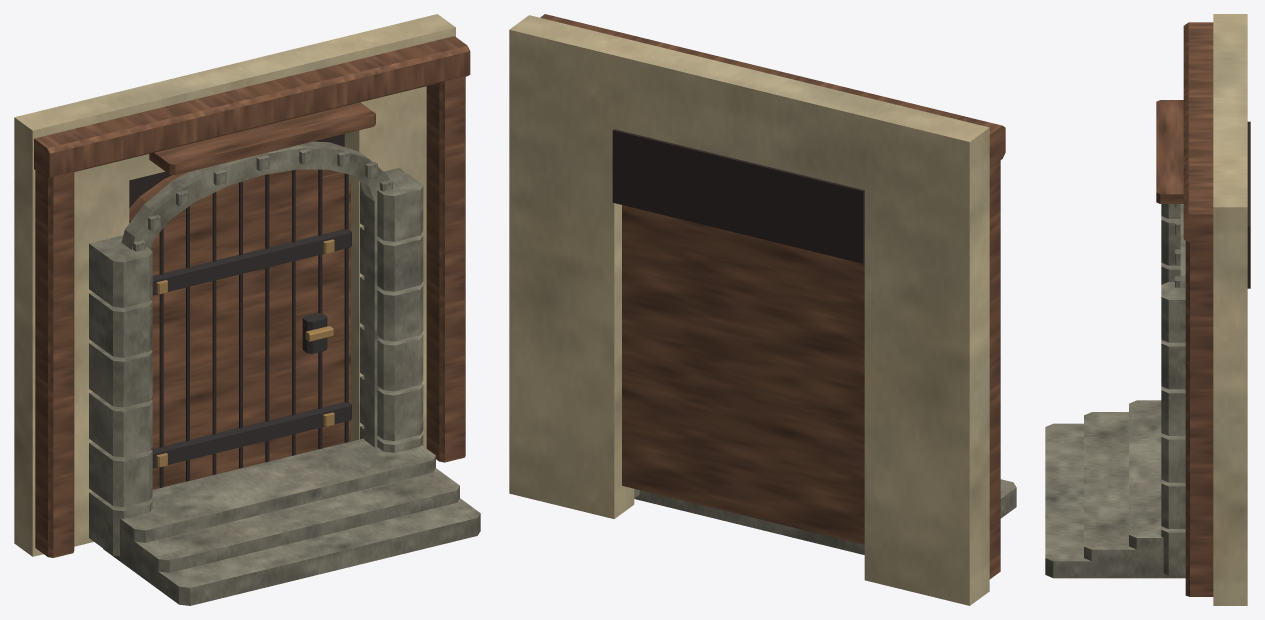
Rendered from wall_entry.glb.
The picture shows the model from 3 angles, left to right: view 1: azimuth 30°, elevation 25°; view 2: azimuth 150°, elevation 25°; view 3: azimuth 270°, elevation 25°; orthographic projection. The views are drawn at different scales.
Parts seen in each view (by area): view 1: Wall Entry; view 2: Wall Entry; view 3: Wall Entry.
Boxes of the visible parts, left/top/right/bottom form: Wall Entry: left=14, top=14, right=480, bottom=605; Wall Entry: left=509, top=14, right=1016, bottom=605; Wall Entry: left=1045, top=14, right=1250, bottom=605.
Size of the model in its own units: 3.2 by 3.08 by 1.43.
6 materials, 3 textured.
